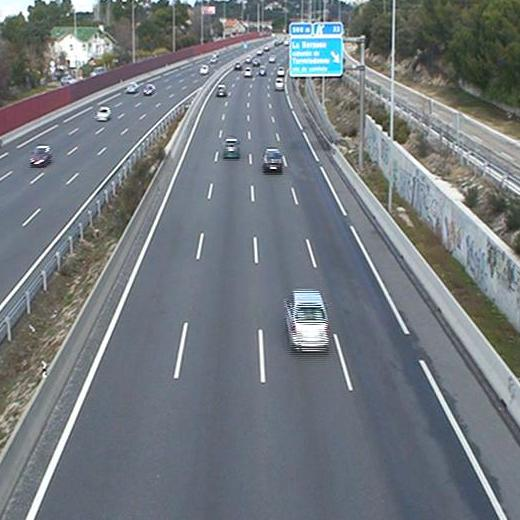car: (286, 292, 327, 352), (262, 150, 283, 174), (224, 138, 240, 158), (215, 85, 227, 98), (274, 78, 285, 92), (243, 66, 253, 77)
